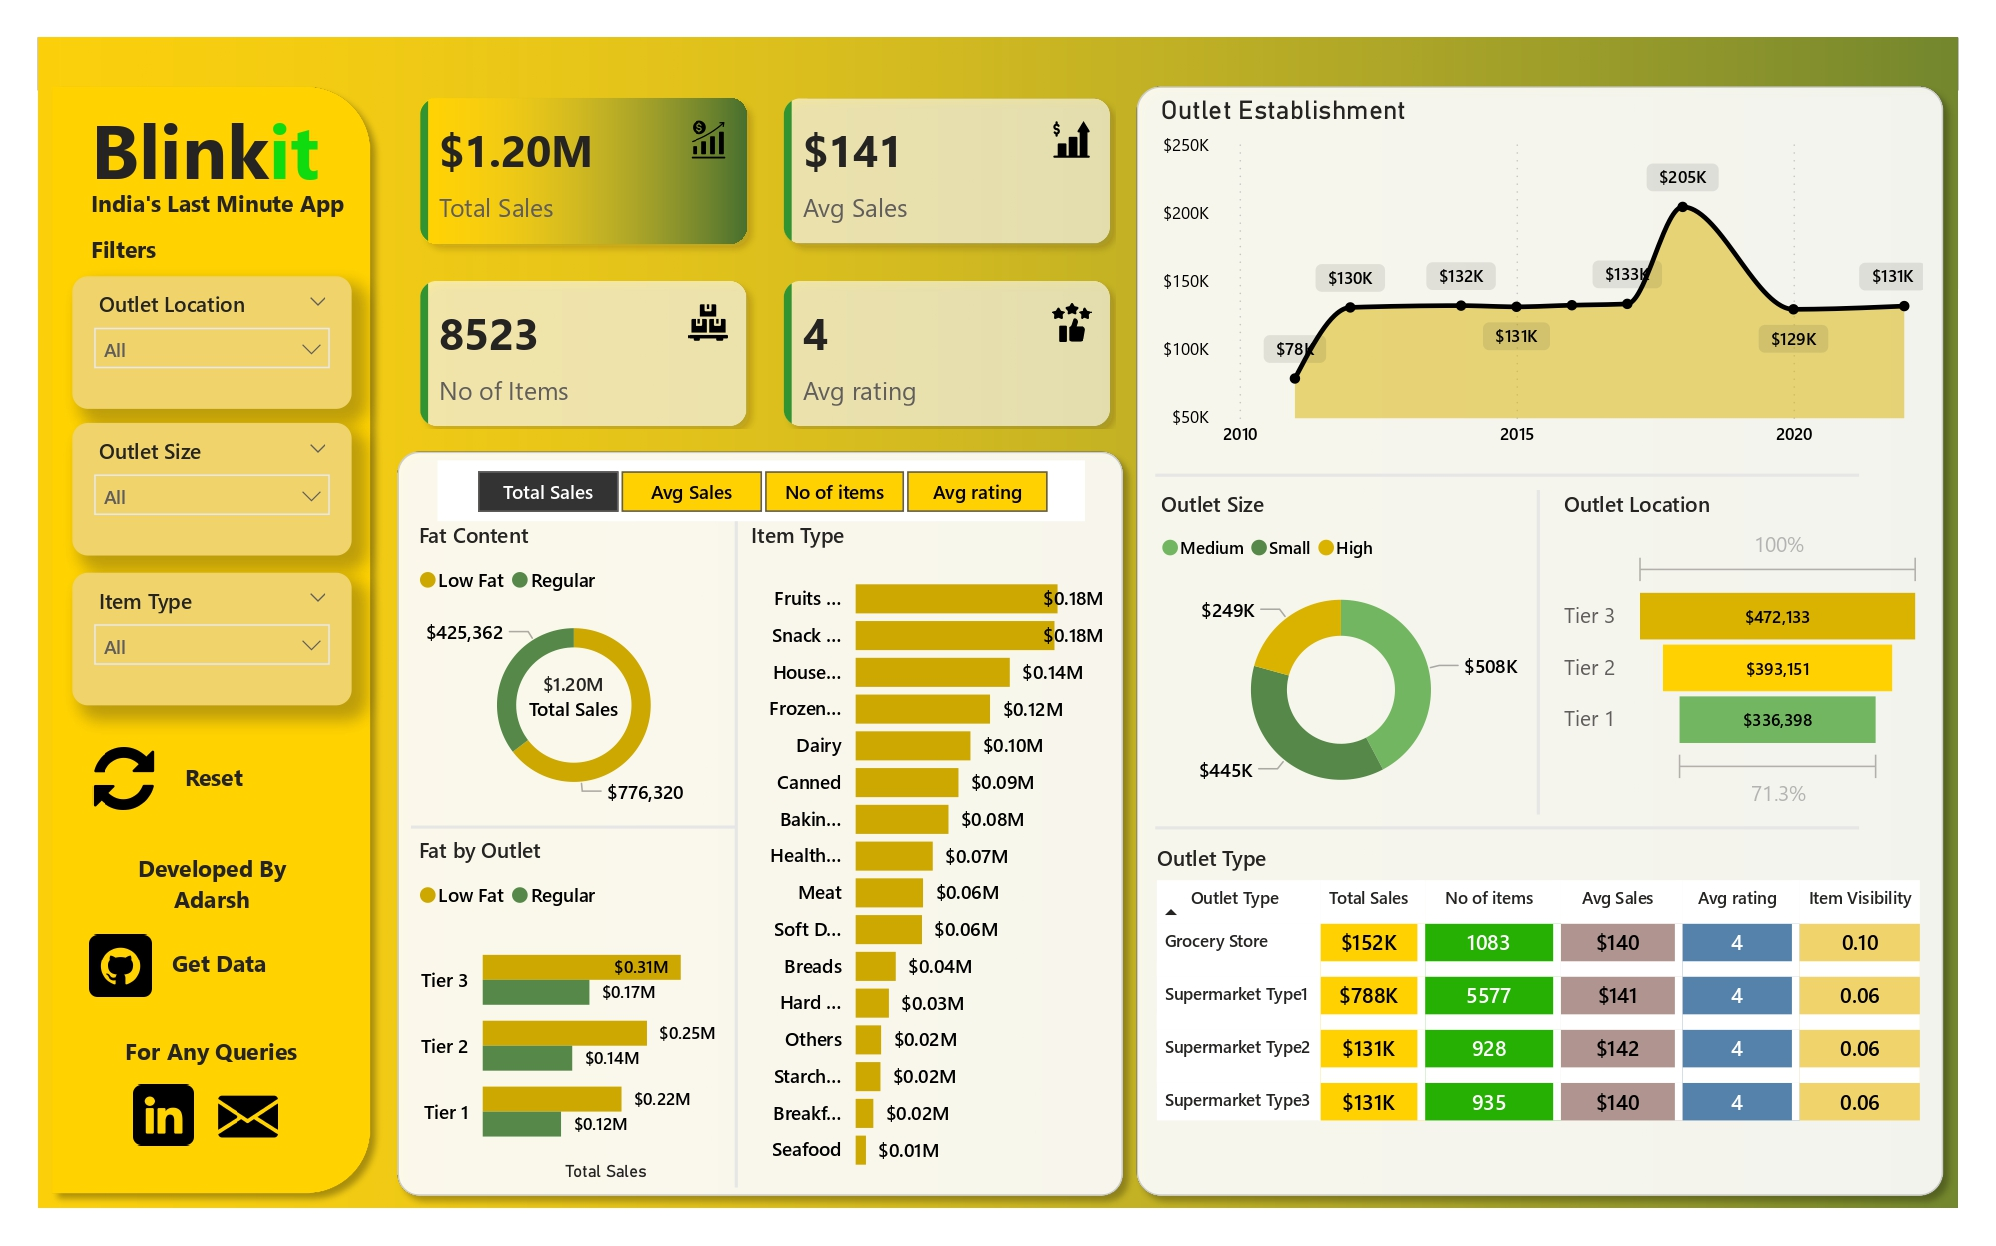

The dashboard page shown, as its layout file describes it:
{"tool":"powerbi","page":{"name":"Blinkit Dashboard","canvas":[1230,750],"ordinal":0},"visuals":[{"type":"shape","box":[0,22.5,221.6,727.5],"z":0},{"type":"textbox","box":[29.1,33.7,179.1,76.6],"z":1000},{"type":"textbox","box":[29.4,90.7,191.1,36.8],"z":2000},{"type":"cardVisual","fields":{"Data":["BlinkIT Grocery Data.Total Sales","BlinkIT Grocery Data.Average Sales","BlinkIT Grocery Data.No of items","BlinkIT Grocery Data.Avg rating"]},"box":[228.3,21.5,467.3,234.3],"z":3000},{"type":"shape","box":[220.8,255.6,483.6,495.6],"z":4000},{"type":"slicer","fields":{"Values":["Parameter.Parameter"]},"box":[255.6,271.2,415.2,38.4],"z":5000},{"type":"donutChart","title":"Fat Content","fields":{"Y":["BlinkIT Grocery Data.Total Sales"],"Category":["BlinkIT Grocery Data.Item Fat Content"]},"box":[238.8,309.6,208.8,189.6],"z":6000},{"type":"cardVisual","fields":{"Data":["BlinkIT Grocery Data.Total Sales"]},"box":[294,386.1,98,72.9],"z":7000},{"type":"clusteredBarChart","title":"Fat by Outlet","fields":{"Y":["BlinkIT Grocery Data.Total Sales"],"Category":["BlinkIT Grocery Data.Outlet Location Type"],"Series":["BlinkIT Grocery Data.Item Fat Content"]},"box":[238.8,512.4,208.8,224.4],"z":8000},{"type":"shape","box":[238.8,500.4,208.8,12],"z":9000},{"type":"shape","box":[440.4,309.6,14.4,427.2],"z":10000},{"type":"barChart","title":"Item Type","fields":{"Y":["BlinkIT Grocery Data.Total Sales"],"Category":["BlinkIT Grocery Data.Item Type"]},"box":[452.4,309.6,235.2,427.2],"z":11000},{"type":"shape","box":[694.6,22.1,535.4,728.9],"z":11001},{"type":"lineChart","title":"Outlet Establishment","fields":{"Y":["BlinkIT Grocery Data.Total Sales"],"Category":["BlinkIT Grocery Data.Outlet Establishment Year"]},"box":[715.5,35.5,497.4,235.2],"z":11002},{"type":"shape","box":[715.9,271.3,450.6,19.1],"z":11003},{"type":"donutChart","title":"Outlet Size","fields":{"Category":["BlinkIT Grocery Data.Outlet Size"],"Y":["BlinkIT Grocery Data.Total Sales"]},"box":[715.5,290.3,240,210.7],"z":11004},{"type":"funnel","title":"Outlet  Location","fields":{"Category":["BlinkIT Grocery Data.Outlet Location Type"],"Y":["BlinkIT Grocery Data.Total Sales"]},"box":[972.7,290.3,240.1,210],"z":11005},{"type":"pivotTable","title":"Outlet Type","fields":{"Values":["BlinkIT Grocery Data.Total Sales","BlinkIT Grocery Data.No of items","BlinkIT Grocery Data.Avg Sales","BlinkIT Grocery Data.Avg rating","Avg(BlinkIT Grocery Data.Item Visibility)"],"Rows":["BlinkIT Grocery Data.Outlet Type"]},"box":[711.8,517,501.1,204.6],"z":11006},{"type":"shape","box":[955,290,13.5,208.3],"z":11007},{"type":"shape","box":[715.9,497.2,450.6,19.1],"z":11008},{"type":"slicer","fields":{"Values":["BlinkIT Grocery Data.Outlet Location Type"]},"box":[22.1,153.1,178.9,84.5],"z":11009},{"type":"slicer","fields":{"Values":["BlinkIT Grocery Data.Outlet Size"]},"box":[22.1,247.5,178.9,84.5],"z":11010},{"type":"slicer","fields":{"Values":["BlinkIT Grocery Data.Item Type"]},"box":[22.1,343,178.9,84.5],"z":11011},{"type":"textbox","box":[29.4,120.1,96.8,33.1],"z":11012},{"type":"image","box":[30,450,50,50],"z":11013},{"type":"textbox","box":[89.4,459.4,96.8,33.1],"z":11014},{"type":"textbox","box":[45.3,517,132.3,50.2],"z":11015},{"type":"textbox","box":[24.9,633.9,171.8,33.2],"z":11016},{"type":"image","box":[28.2,570,50,50],"z":11017},{"type":"textbox","box":[80.9,578.2,96.8,33.1],"z":11018},{"type":"image","box":[56.4,666.5,49,49],"z":11019},{"type":"image","box":[105.4,664,57.6,55.1],"z":11020}]}

Visuals, with their boxes on the page's 1230x750 design canvas (x1, y1, x2, y2). These are canvas units, not pixel positions in the 1996x1246 screenshot, which may show the page scaled, cropped or inside an application window:
shape: 0:22:222:750
textbox: 29:34:208:110
textbox: 29:91:220:128
cardVisual - BlinkIT Grocery Data.Total Sales x BlinkIT Grocery Data.Average Sales: 228:22:696:256
shape: 221:256:704:751
slicer - Parameter.Parameter: 256:271:671:310
"Fat Content" donutChart: 239:310:448:499
cardVisual - BlinkIT Grocery Data.Total Sales: 294:386:392:459
"Fat by Outlet" clusteredBarChart: 239:512:448:737
shape: 239:500:448:512
shape: 440:310:455:737
"Item Type" barChart: 452:310:688:737
shape: 695:22:1230:751
"Outlet Establishment" lineChart: 716:36:1213:271
shape: 716:271:1166:290
"Outlet Size" donutChart: 716:290:956:501
"Outlet  Location" funnel: 973:290:1213:500
"Outlet Type" pivotTable: 712:517:1213:722
shape: 955:290:968:498
shape: 716:497:1166:516
slicer - BlinkIT Grocery Data.Outlet Location Type: 22:153:201:238
slicer - BlinkIT Grocery Data.Outlet Size: 22:248:201:332
slicer - BlinkIT Grocery Data.Item Type: 22:343:201:428
textbox: 29:120:126:153
image: 30:450:80:500
textbox: 89:459:186:492
textbox: 45:517:178:567
textbox: 25:634:197:667
image: 28:570:78:620
textbox: 81:578:178:611
image: 56:666:105:716
image: 105:664:163:719
